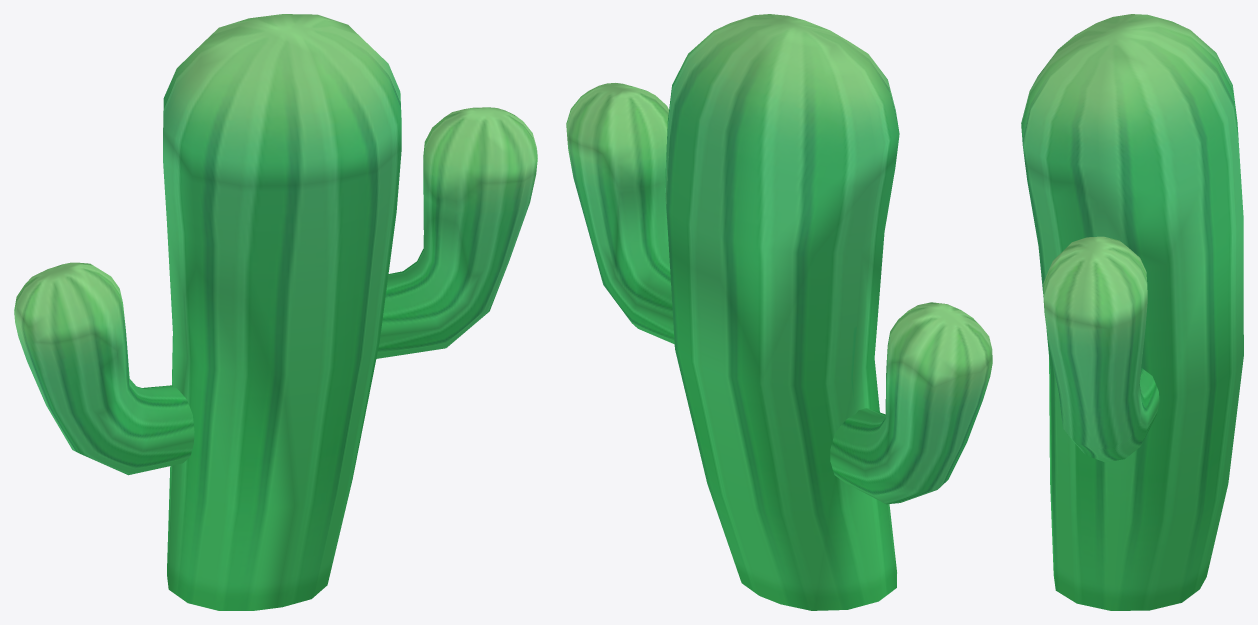
File: cactus2.glb
3 views of the same model, side by side, from view 1: azimuth 30°, elevation 25°; view 2: azimuth 150°, elevation 25°; view 3: azimuth 270°, elevation 25° (orthographic). The views are drawn at different scales.
Visible parts, largest first — view 1: Mesh_32_cactus_0; view 2: Mesh_32_cactus_0; view 3: Mesh_32_cactus_0.
Boxes of the visible parts, box(x1,y1,x2,y2) form: Mesh_32_cactus_0: box(14, 14, 537, 610); Mesh_32_cactus_0: box(566, 14, 992, 610); Mesh_32_cactus_0: box(1021, 14, 1243, 610).
Bounding box in the file's own units: 2.74 × 3.08 × 1.11.
Materials: 1 (1 with a texture image).
